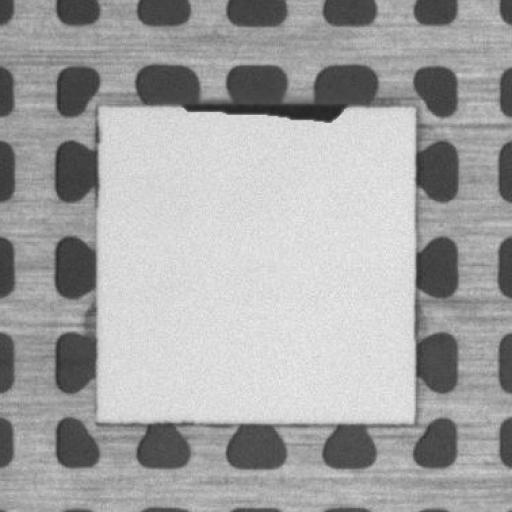DIE_BROKEN: (182, 95, 352, 120)
